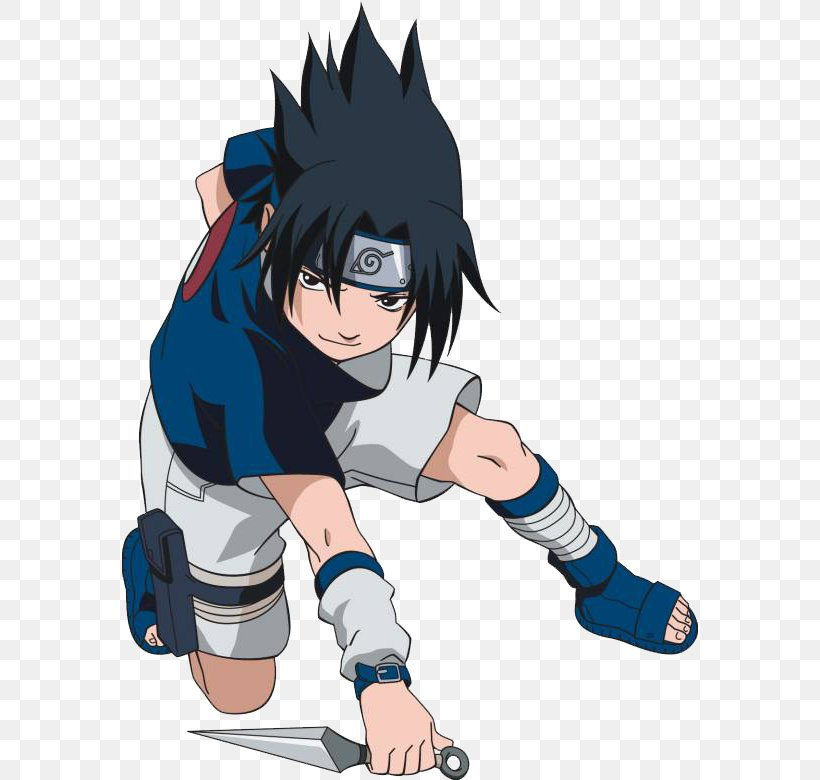sasuke: (257, 193, 436, 367)
